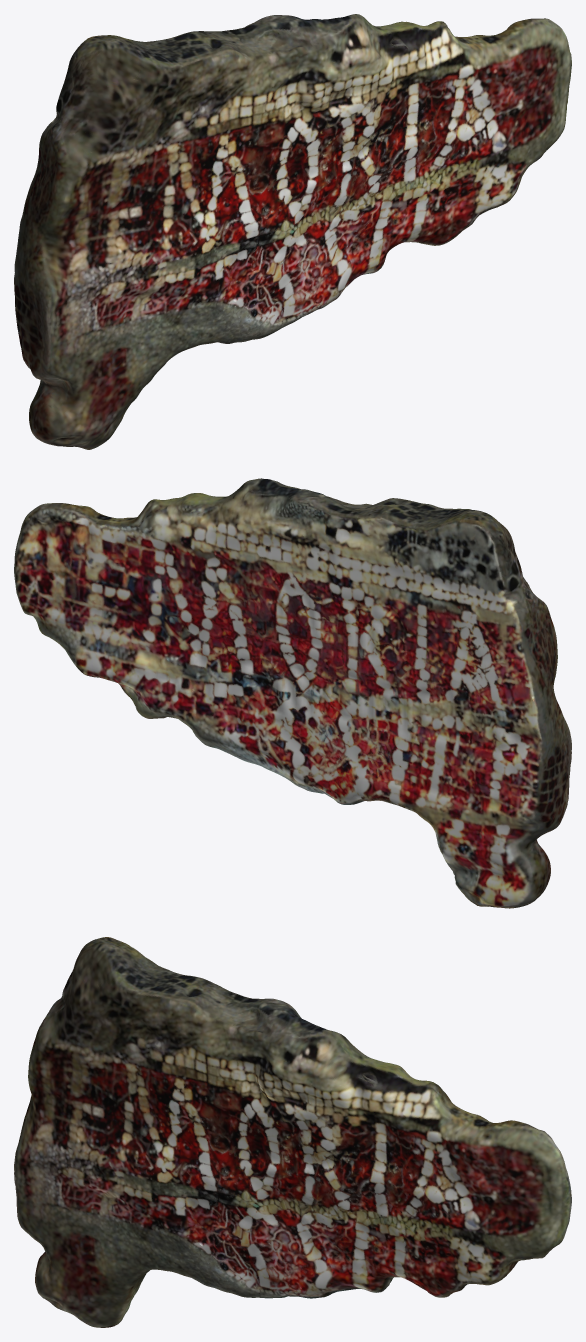
File: primary.glb
3 renders of one model, top to bottom at view 1: azimuth 30°, elevation 25°; view 2: azimuth 150°, elevation 25°; view 3: azimuth 330°, elevation 25°, orthographic. The views are drawn at different scales.
Bounding box in the file's own units: 2 × 1.39 × 0.2557.
Materials: 1 (1 with a texture image).
